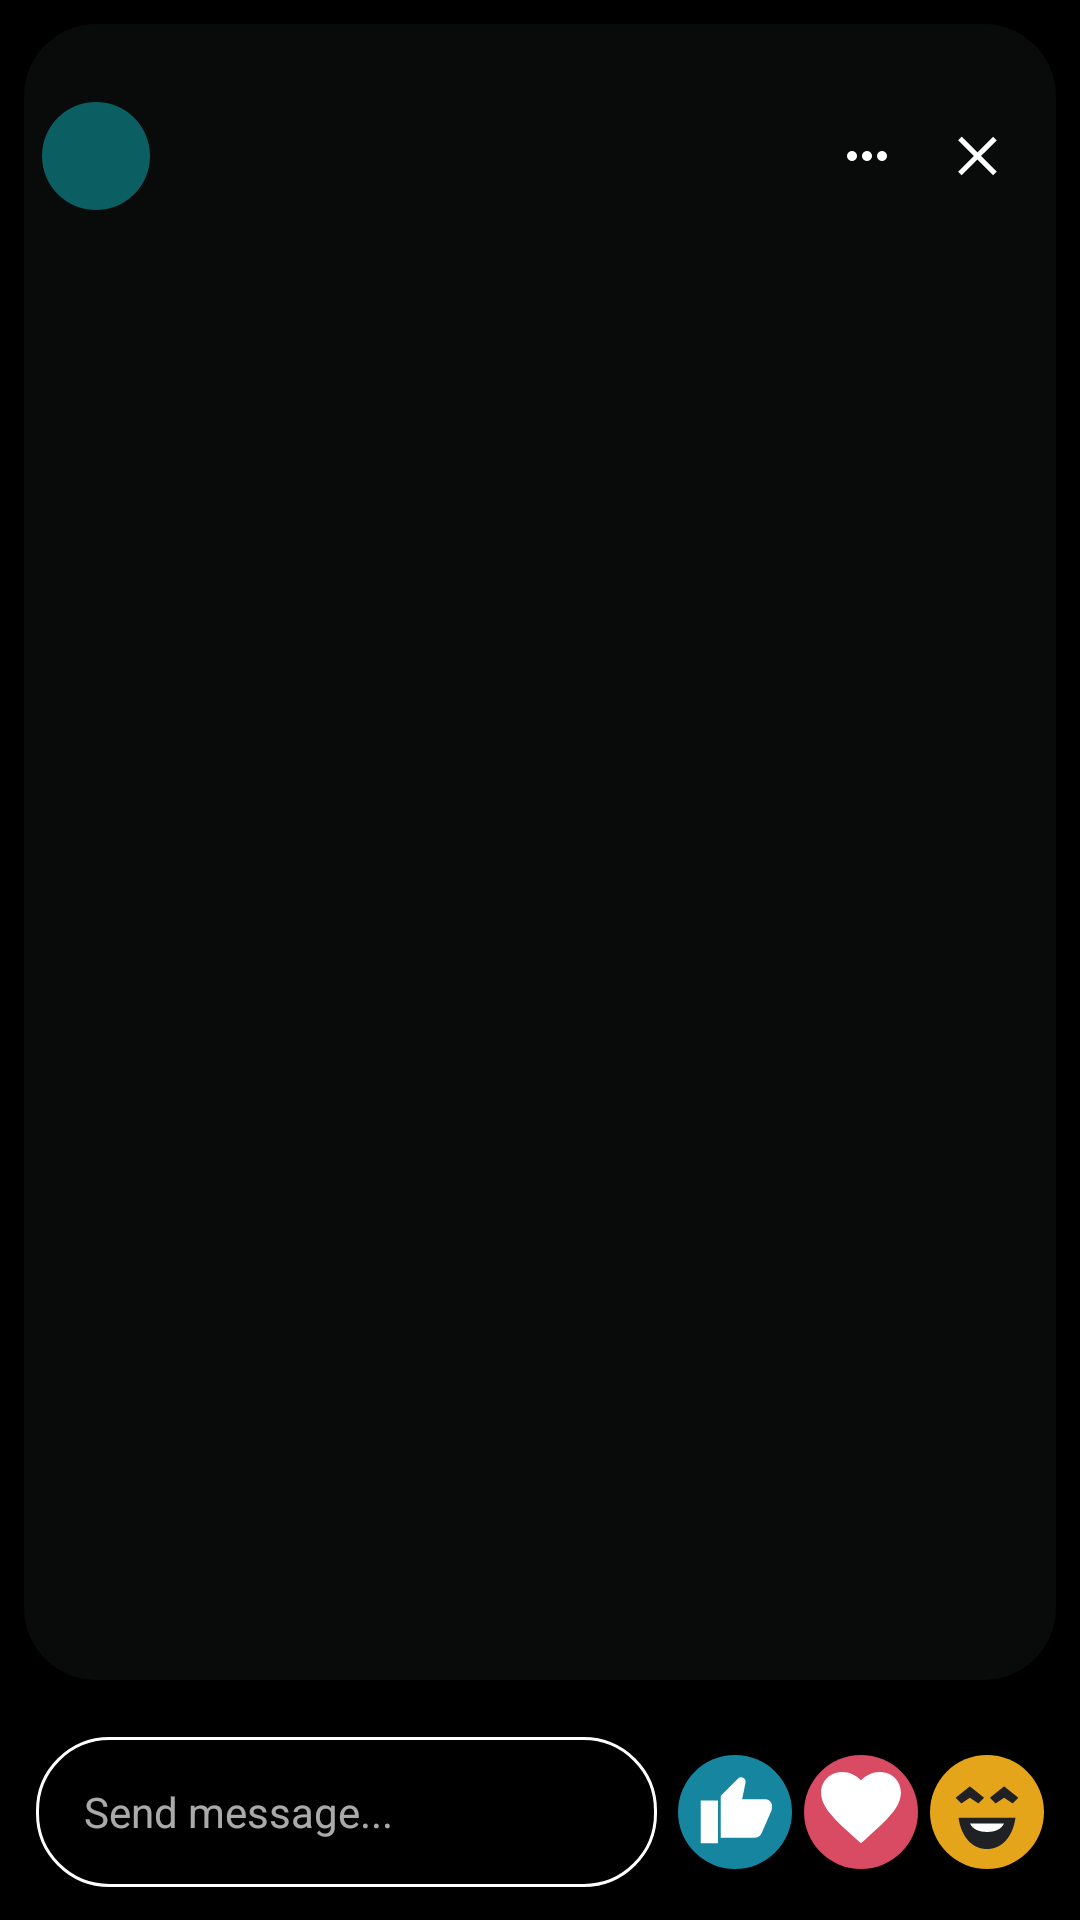

Where icons sit on this 1080w x 1920h app screen, as (x1, y1, x2, y2):
Close: (958, 136, 997, 175)
Laugh: (930, 1755, 1044, 1869)
Like: (678, 1755, 792, 1869)
Love: (804, 1755, 918, 1869)
More options: (847, 151, 887, 161)
